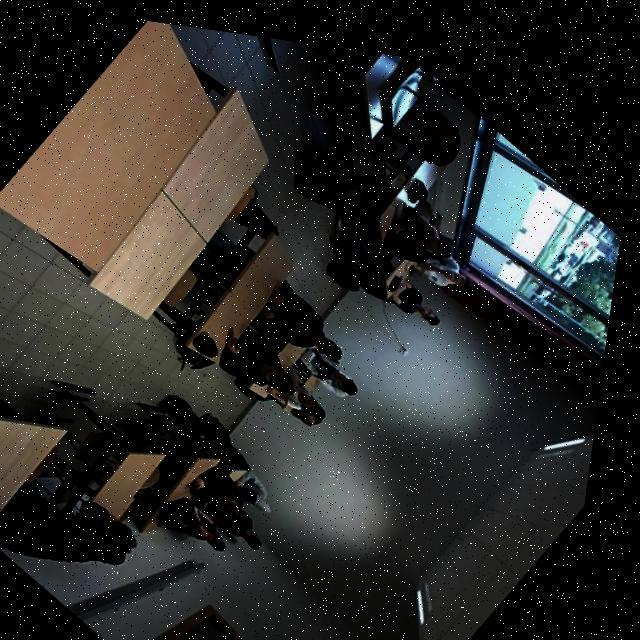phone_use: (218, 309, 323, 423), (378, 164, 457, 274), (254, 342, 355, 424), (250, 280, 340, 362), (197, 463, 268, 510), (228, 469, 269, 510)
